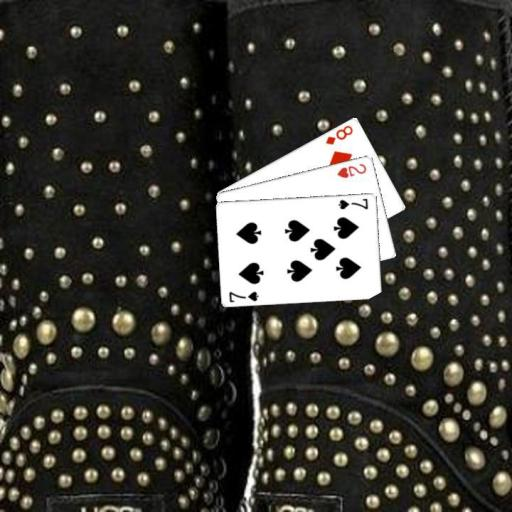2H: (334, 160, 368, 179)
7S: (226, 288, 260, 304), (336, 195, 370, 210)
8D: (322, 122, 355, 146)
